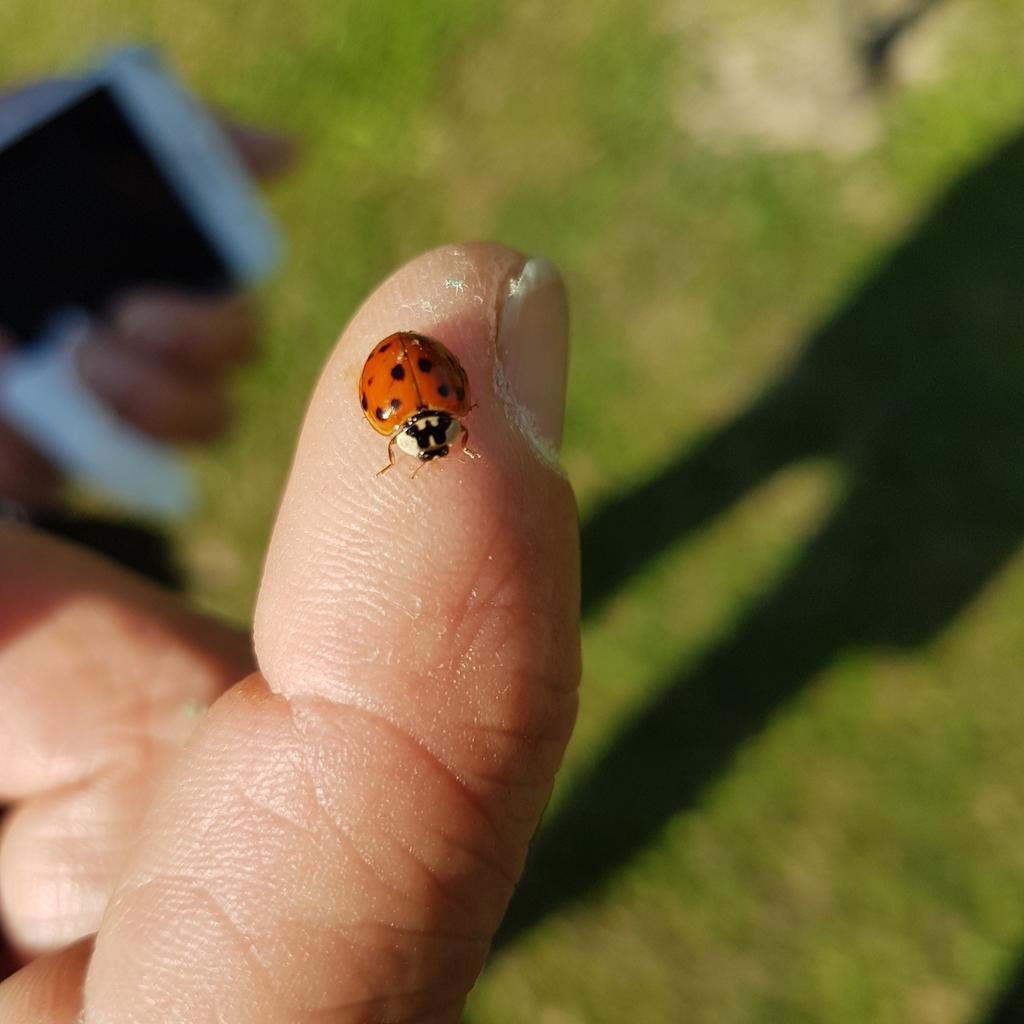ladybug: (354, 326, 491, 484)
